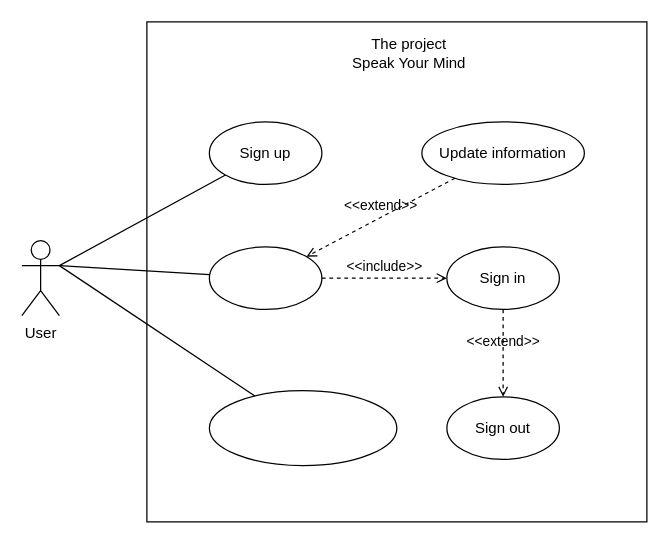
The diagram is 669 pixels wide and 544 high, and some of its shapes have lost their labels. The centre of each missing label's shape, as x and y in pixels:
"View profile" belongs at pixel 265 277.
"View translated result" belongs at pixel 302 427.
